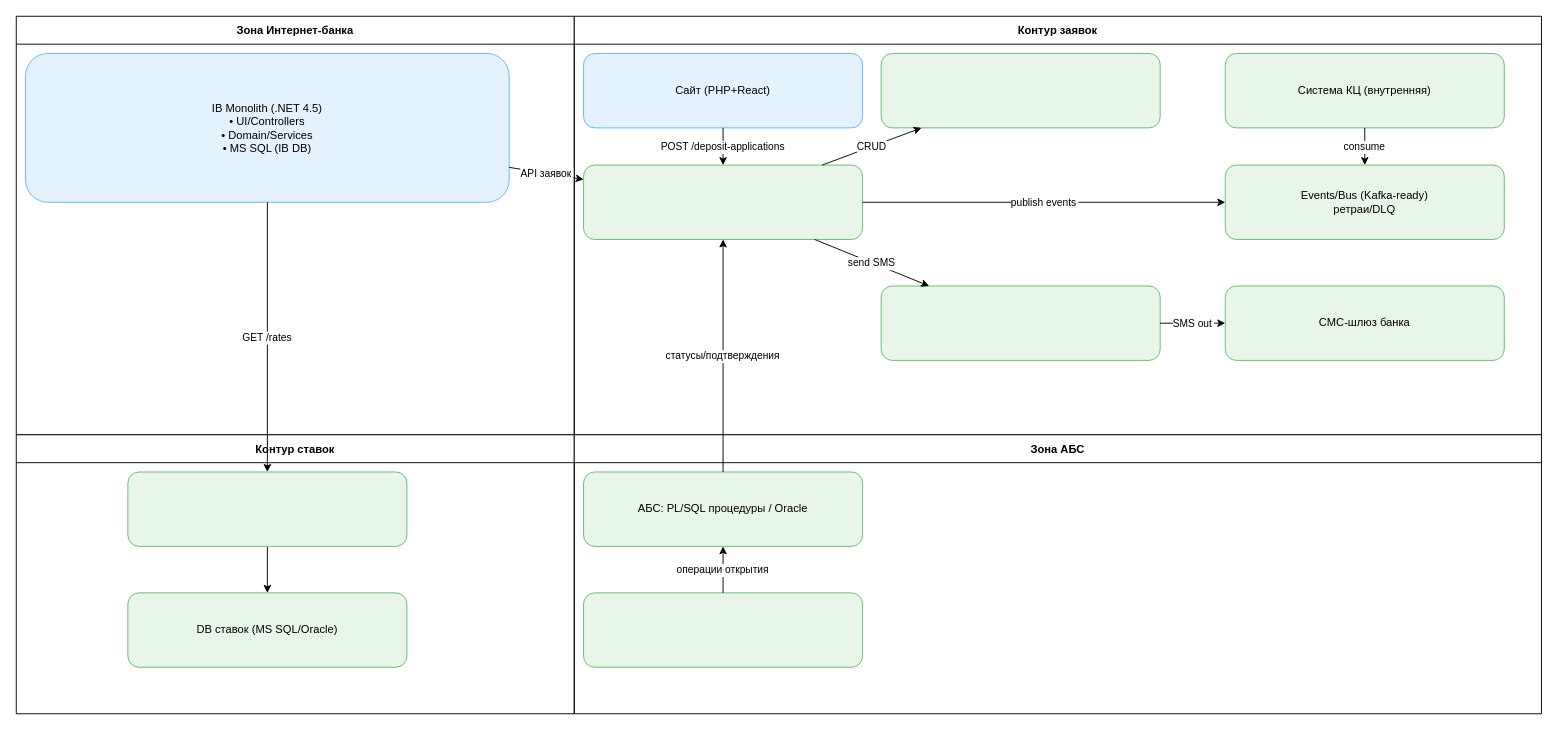
Some shapes in this 1558 by 730 pixel diagram are drawn without their labels. The centre of each missing label's shape, as x and y in pixels:
"Applications API (REST)" goes at (x=723, y=201).
"DB (MS SQL/Oracle)" goes at (x=1020, y=90).
"Notification Adapter → СМС‑шлюз" goes at (x=1020, y=322).
"Rates API (или PL/SQL модуль)" goes at (x=267, y=508).
"АБС клиент (Delphi) БО депозиты/кредиты" goes at (x=723, y=629).
